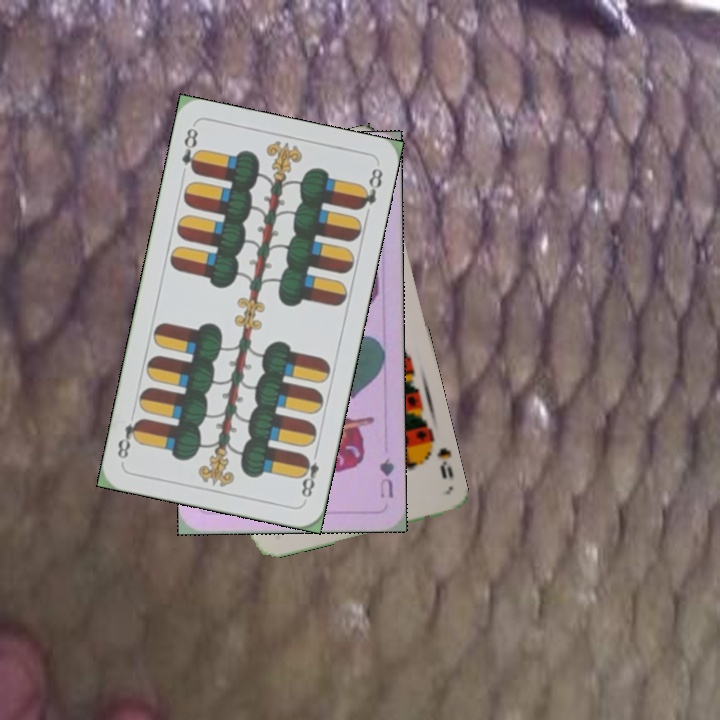E8: (295, 445, 322, 501), (177, 124, 203, 176)
GU: (375, 454, 396, 500)
S9: (432, 443, 456, 482)
